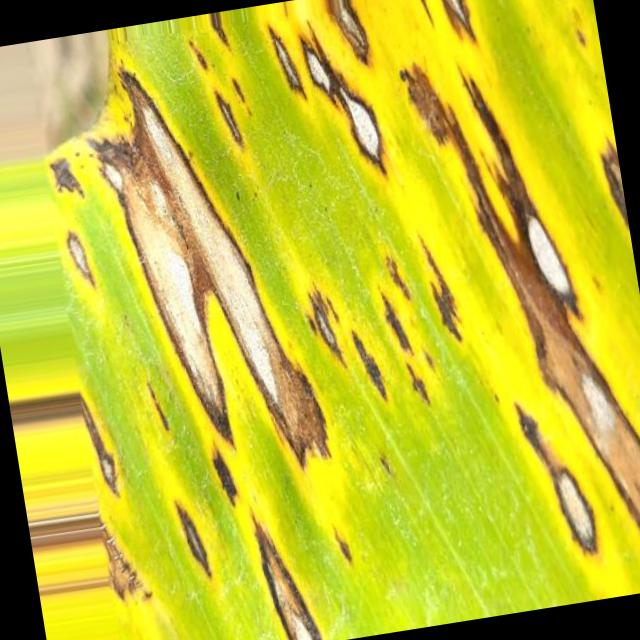Banana_Yellow_Sigatoka: (335, 27, 640, 628), (44, 74, 372, 522)
